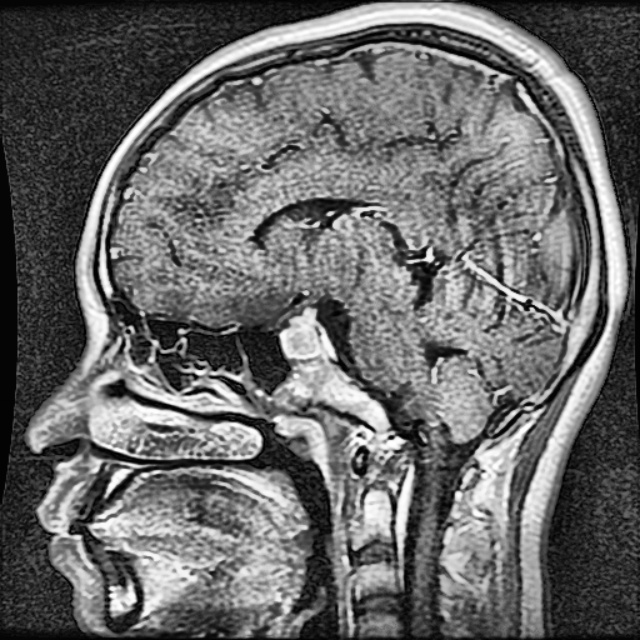Pituitary: (279, 308, 322, 359)
